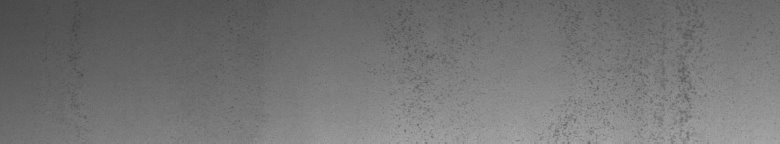ib: (368, 9, 475, 133)
